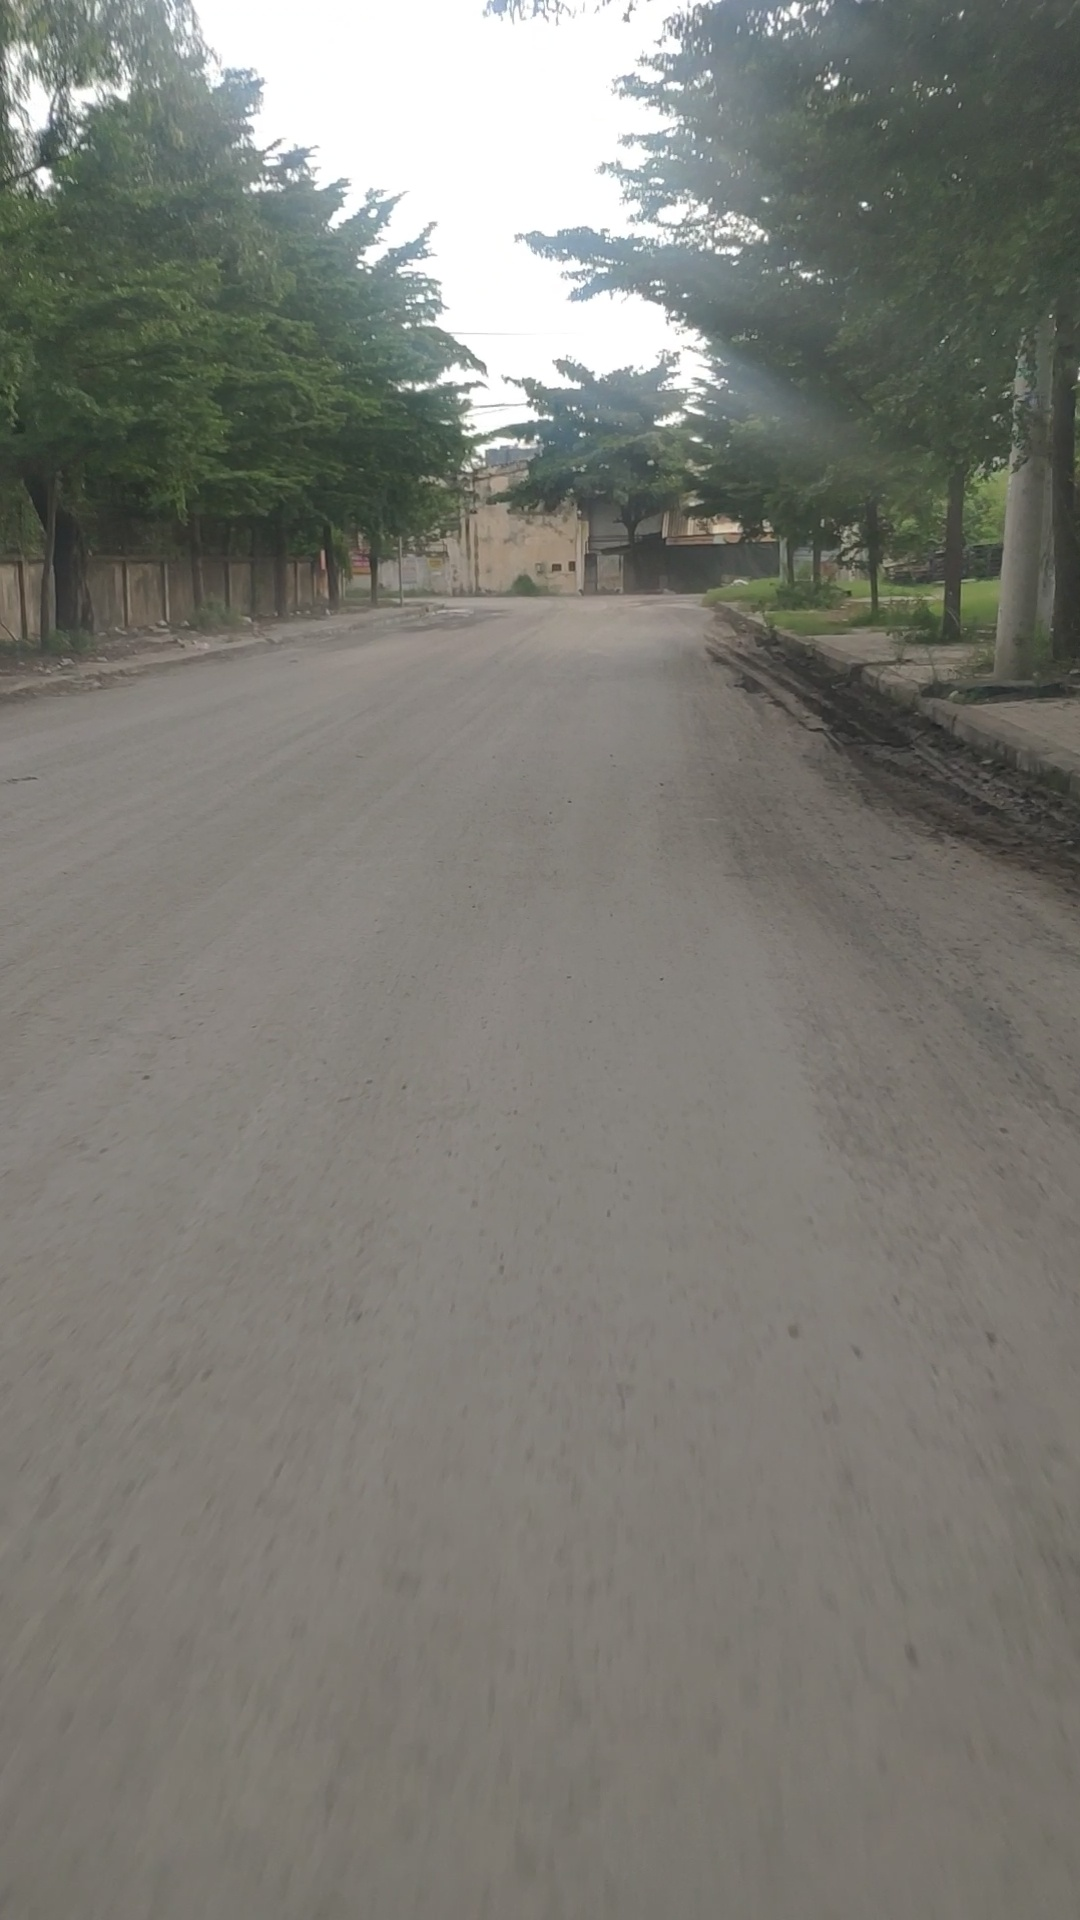hole: (401, 605, 477, 626)
